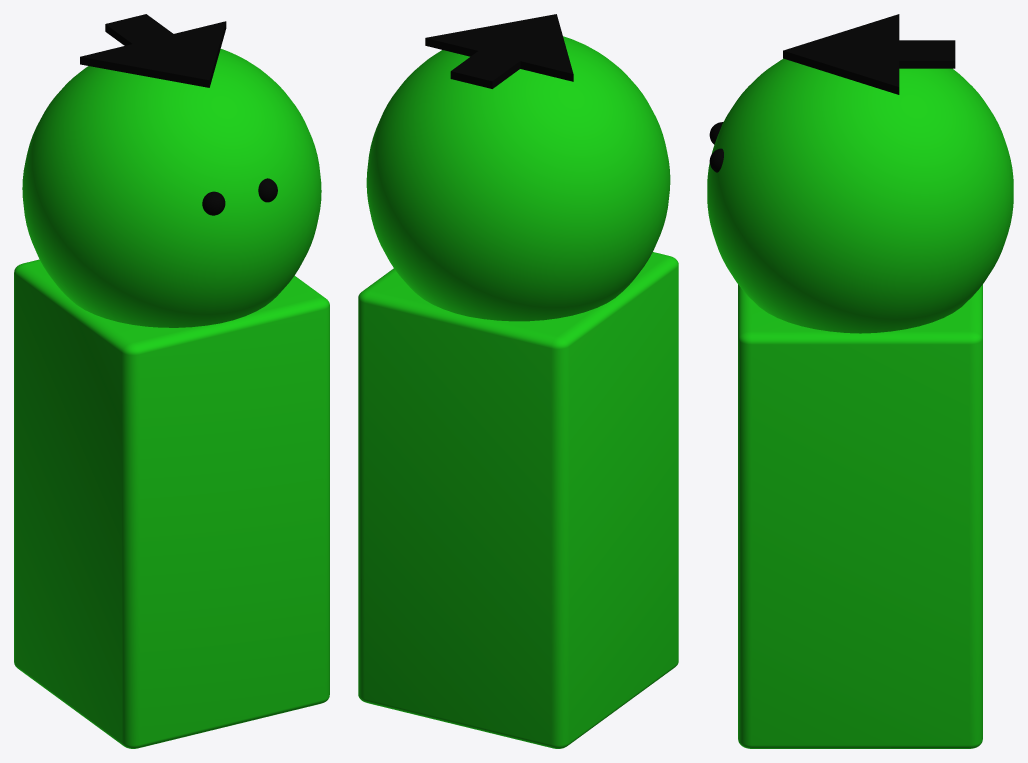
3 renders of one model, left to right at view 1: azimuth 30°, elevation 25°; view 2: azimuth 150°, elevation 25°; view 3: azimuth 270°, elevation 25°, orthographic. The views are drawn at different scales.
Parts seen in each view (by area): view 1: Curve.004_Curve.009_Material.001, Curve.004_Curve.009_SVGMat; view 2: Curve.004_Curve.009_Material.001, Curve.004_Curve.009_SVGMat; view 3: Curve.004_Curve.009_Material.001, Curve.004_Curve.009_SVGMat.
Part boxes in pixels (<box>): Curve.004_Curve.009_Material.001: <box>14,49,329,748</box>; Curve.004_Curve.009_SVGMat: <box>80,14,277,215</box>; Curve.004_Curve.009_Material.001: <box>358,36,678,748</box>; Curve.004_Curve.009_SVGMat: <box>425,14,573,88</box>; Curve.004_Curve.009_Material.001: <box>707,58,1013,748</box>; Curve.004_Curve.009_SVGMat: <box>709,14,955,172</box>.
Bounding box in the file's own units: 0.2062 × 0.4815 × 0.2057.
